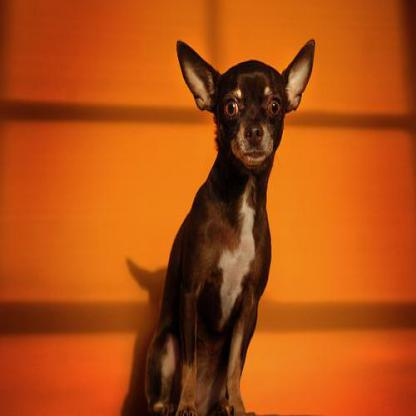dog: (153, 28, 316, 410)
